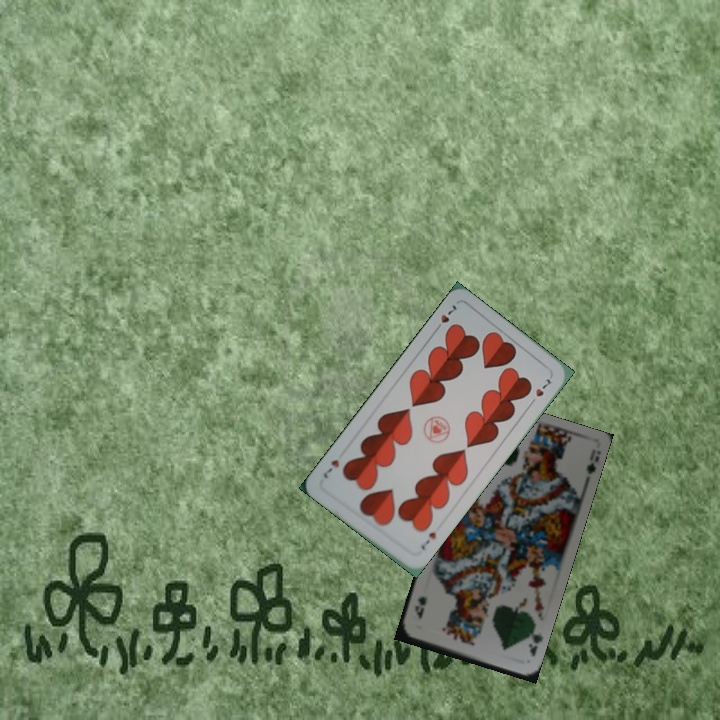GK: (524, 628, 545, 659)
H7: (430, 300, 459, 335), (416, 528, 439, 553)
